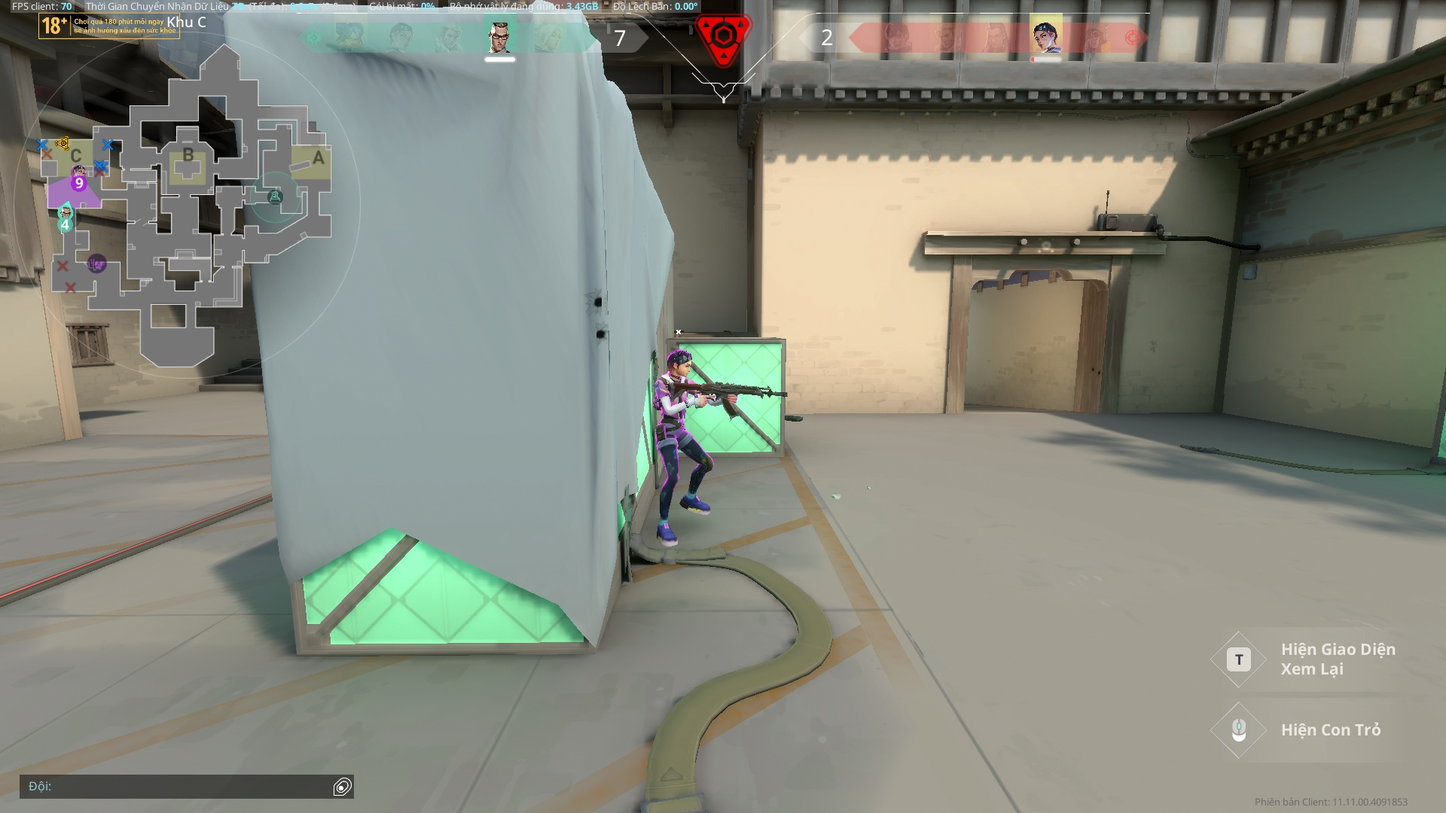body: (654, 370, 690, 422)
head: (665, 348, 694, 375)
